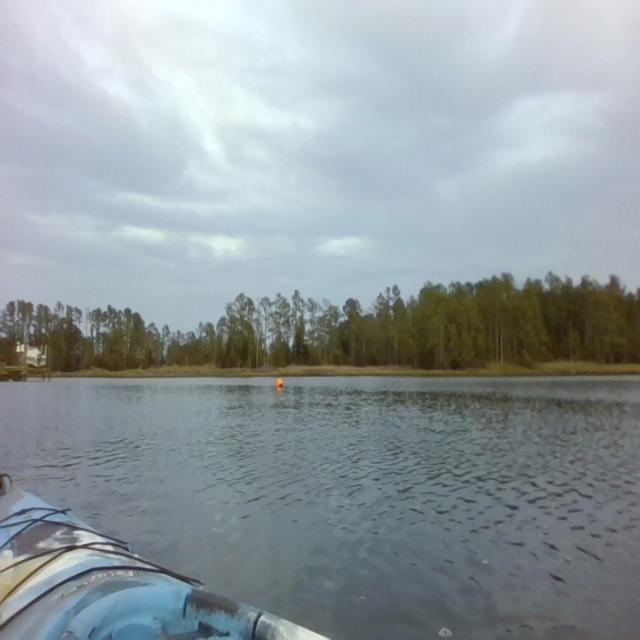Buoy: (274, 374, 285, 392)
